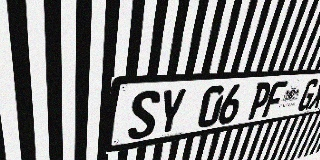0: (196, 85, 226, 129)
6: (216, 84, 246, 125)
F: (262, 81, 288, 117)
G: (296, 78, 320, 111)
P: (246, 82, 273, 120)
S: (127, 90, 161, 141)
X: (308, 78, 320, 109)
Y: (155, 88, 187, 136)
